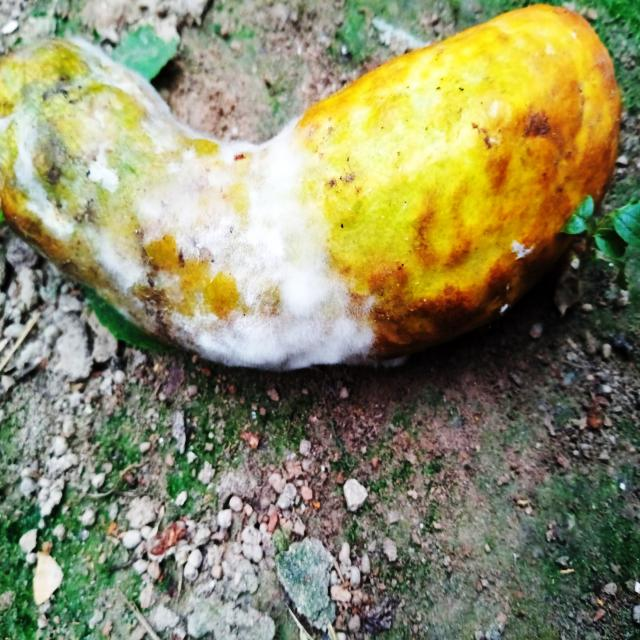Pythium-Fruit-Rot: (0, 43, 375, 376)
